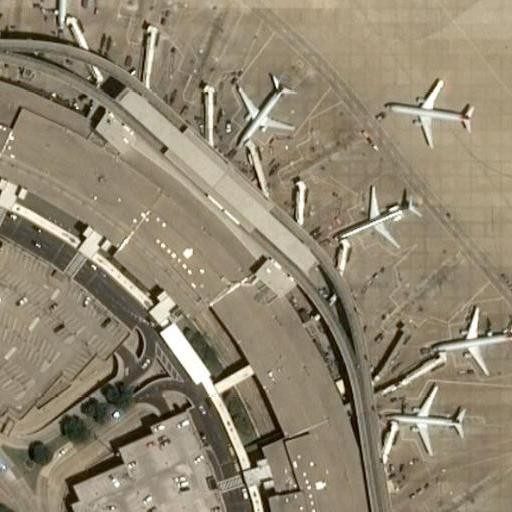Aircraft: (382, 69, 481, 147), (384, 379, 468, 454), (330, 183, 425, 248), (423, 301, 512, 370), (230, 72, 295, 144), (25, 0, 99, 24), (0, 0, 14, 2)
